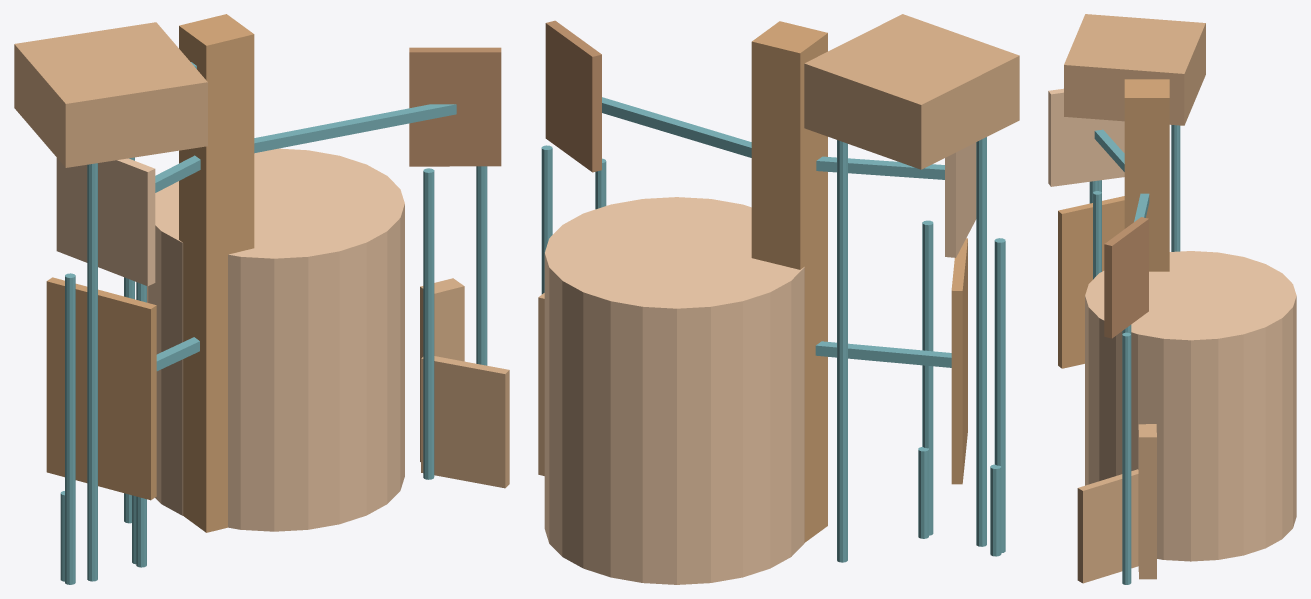
Rendered from folie_tag_057.glb.
3 renders of one model, left to right at view 1: azimuth 30°, elevation 25°; view 2: azimuth 150°, elevation 25°; view 3: azimuth 270°, elevation 25°, orthographic. The views are drawn at different scales.
Parts seen in each view (by area): view 1: folie_tag_057_00_drum, folie_tag_057_core, folie_tag_057_02_block, folie_tag_057_line, folie_tag_057_01_panel, folie_tag_057_05_panel, folie_tag_057_03_panel, folie_tag_057_06_panel, folie_tag_057_04_fin; view 2: folie_tag_057_00_drum, folie_tag_057_line, folie_tag_057_02_block, folie_tag_057_core, folie_tag_057_05_panel, folie_tag_057_01_panel, folie_tag_057_03_panel, folie_tag_057_04_fin; view 3: folie_tag_057_00_drum, folie_tag_057_02_block, folie_tag_057_core, folie_tag_057_01_panel, folie_tag_057_line, folie_tag_057_06_panel, folie_tag_057_03_panel, folie_tag_057_05_panel, folie_tag_057_04_fin.
Part boxes in pixels (bbox=[...]): folie_tag_057_00_drum: bbox=[147, 148, 404, 531]; folie_tag_057_core: bbox=[179, 14, 254, 532]; folie_tag_057_02_block: bbox=[14, 22, 207, 167]; folie_tag_057_line: bbox=[60, 62, 487, 584]; folie_tag_057_01_panel: bbox=[46, 277, 156, 500]; folie_tag_057_05_panel: bbox=[409, 47, 501, 166]; folie_tag_057_03_panel: bbox=[56, 158, 155, 286]; folie_tag_057_06_panel: bbox=[421, 356, 509, 488]; folie_tag_057_04_fin: bbox=[420, 278, 464, 461]; folie_tag_057_00_drum: bbox=[544, 197, 804, 584]; folie_tag_057_line: bbox=[541, 97, 1005, 562]; folie_tag_057_02_block: bbox=[804, 14, 1019, 169]; folie_tag_057_core: bbox=[751, 21, 827, 542]; folie_tag_057_05_panel: bbox=[545, 20, 601, 172]; folie_tag_057_01_panel: bbox=[951, 238, 967, 484]; folie_tag_057_03_panel: bbox=[945, 142, 976, 257]; folie_tag_057_04_fin: bbox=[538, 293, 544, 475]; folie_tag_057_00_drum: bbox=[1085, 251, 1296, 561]; folie_tag_057_02_block: bbox=[1064, 14, 1205, 125]; folie_tag_057_core: bbox=[1124, 79, 1169, 271]; folie_tag_057_01_panel: bbox=[1058, 196, 1124, 368]; folie_tag_057_line: bbox=[1089, 125, 1180, 584]; folie_tag_057_06_panel: bbox=[1077, 469, 1138, 583]; folie_tag_057_03_panel: bbox=[1048, 88, 1124, 186]; folie_tag_057_05_panel: bbox=[1104, 217, 1148, 338]; folie_tag_057_04_fin: bbox=[1138, 424, 1156, 579].
Bounding box in the file's own units: 10.39 × 10.7 × 6.1.
